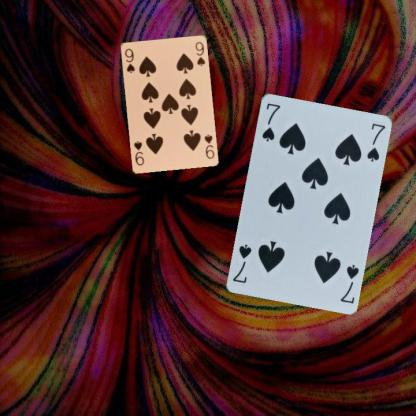7s: (337, 262, 360, 304), (259, 100, 281, 143)
9s: (202, 131, 216, 160), (122, 46, 136, 74)
